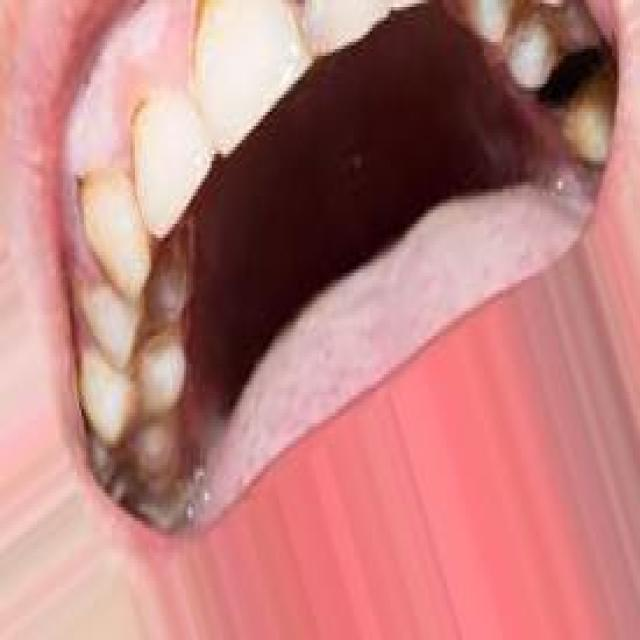caries: (528, 12, 608, 138)
